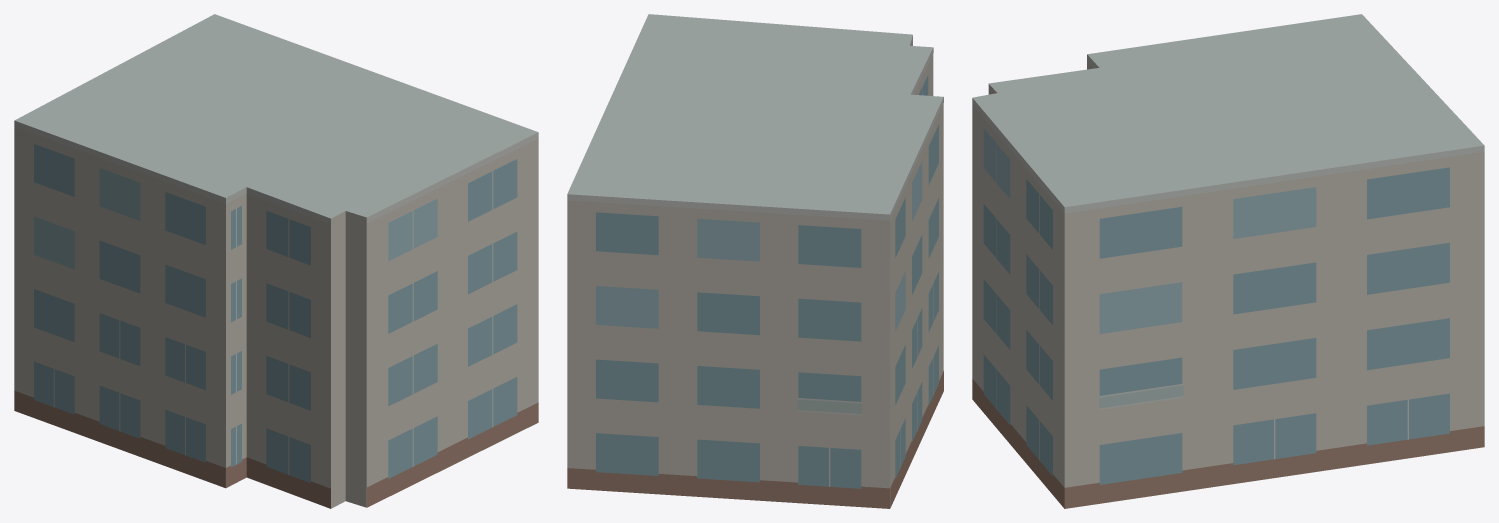
Rendered from survey-upis-32736005.glb.
The picture shows the model from 3 angles, left to right: view 1: azimuth 30°, elevation 25°; view 2: azimuth 150°, elevation 25°; view 3: azimuth 270°, elevation 25°; orthographic projection. The views are drawn at different scales.
Visible parts, largest first — view 1: survey-upis-32736005.tmp; view 2: survey-upis-32736005.tmp; view 3: survey-upis-32736005.tmp.
Part boxes in pixels (x1,y1,x2,y2): survey-upis-32736005.tmp: (14,14,538,508); survey-upis-32736005.tmp: (567,14,943,508); survey-upis-32736005.tmp: (972,14,1484,508).
Bounding box in the file's own units: 16.09 × 11.7 × 18.02.
